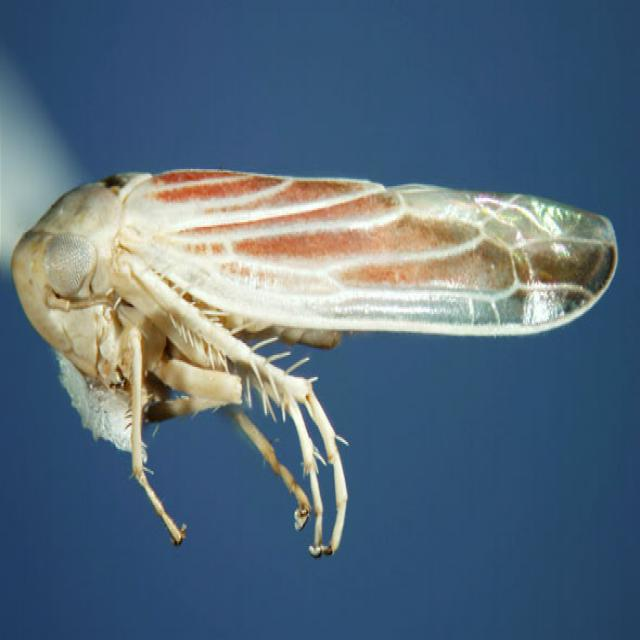Yechan: (15, 159, 623, 502)
